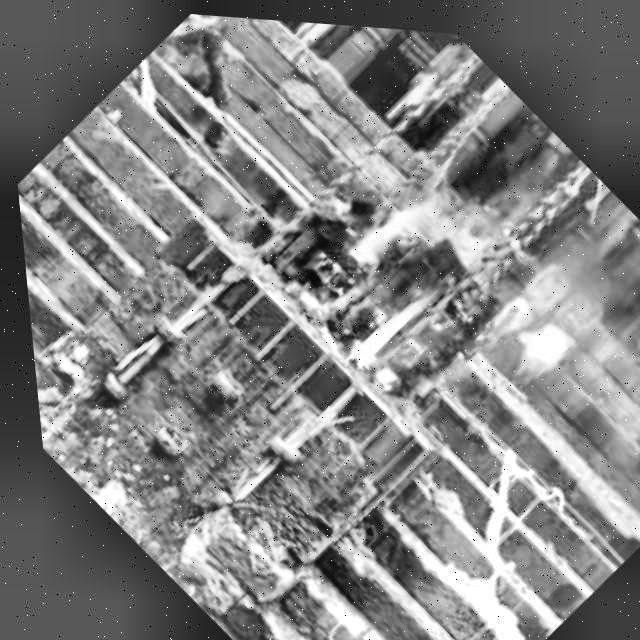Fire: (267, 124, 546, 396)
